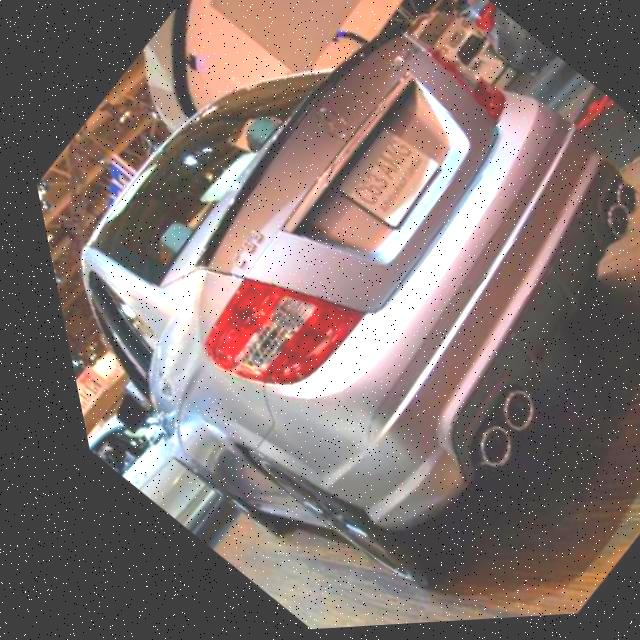license_plate: (320, 125, 446, 238)
